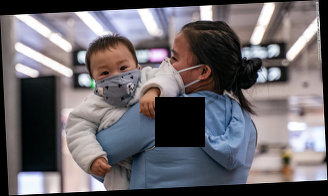with_mask: (93, 58, 143, 108), (158, 47, 185, 97)
